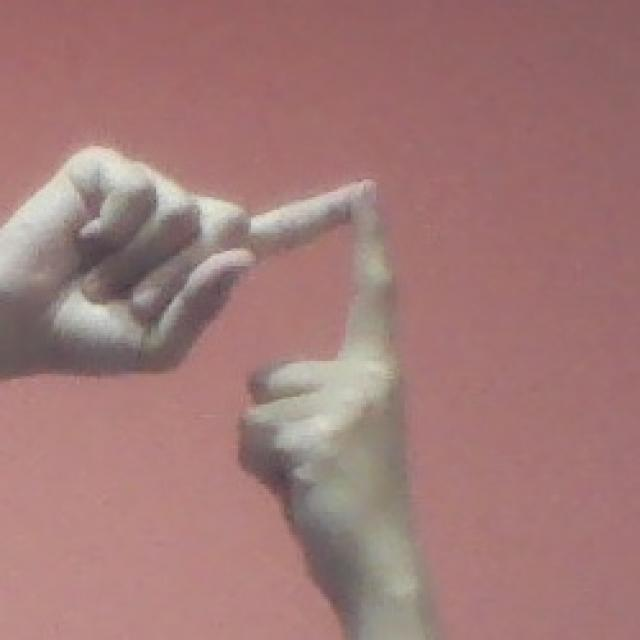Alphabet-E: (18, 142, 436, 636)
